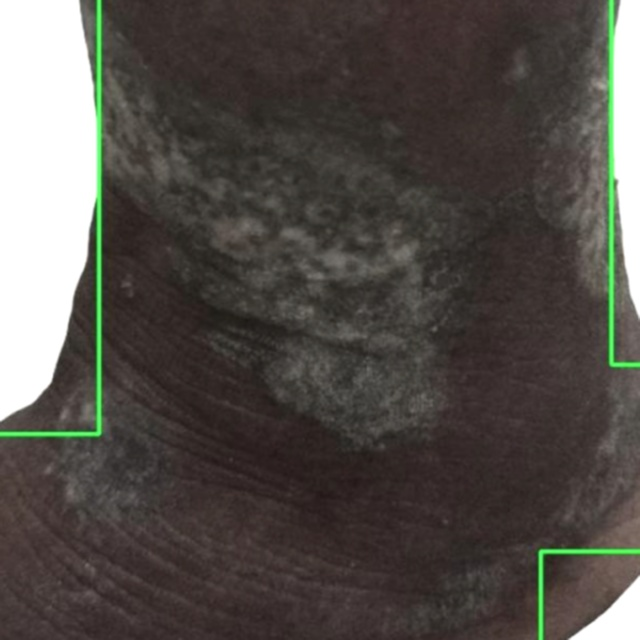Eczema: (0, 0, 99, 433), (540, 551, 639, 639)
